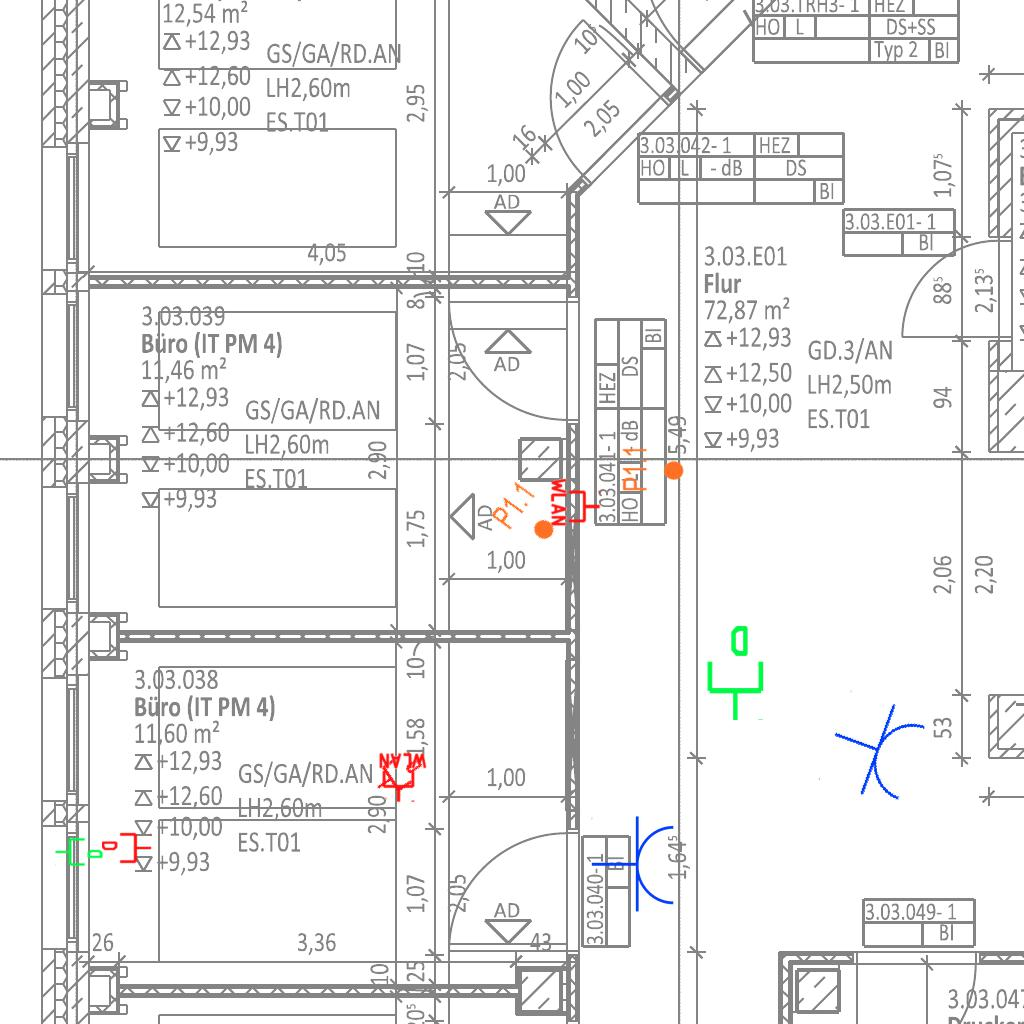Datenanschluss_einfach: (699, 623, 768, 723), (367, 745, 429, 803), (102, 831, 152, 865), (54, 834, 104, 868)
Downlight_LED_Einbauleuchten_Flur: (488, 478, 568, 554), (621, 446, 685, 492)
Schukosteckdose_einfach: (817, 687, 933, 812), (591, 815, 678, 915)
WLAN: (550, 476, 602, 528), (377, 752, 429, 804)
